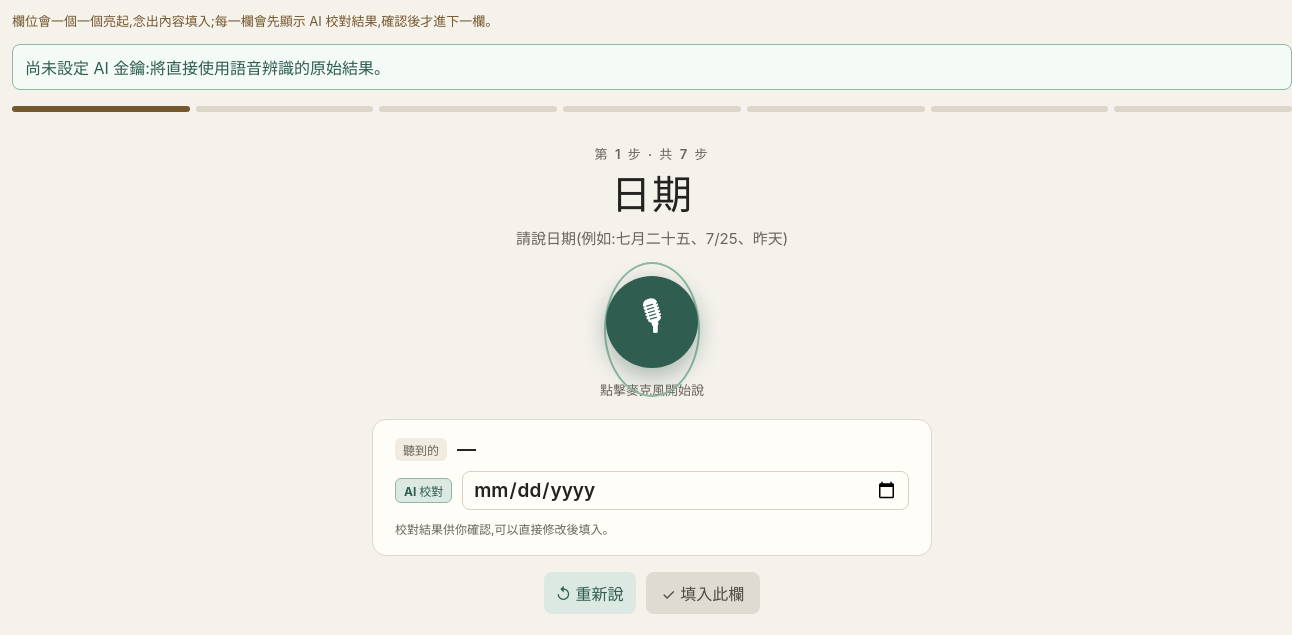
Test: ModeBPanel › resolves an offline spoken Chinese date into the date picker
The image size is (1292, 635).
Click the button named "用說的" at (652, 322), box [606,276,698,368]
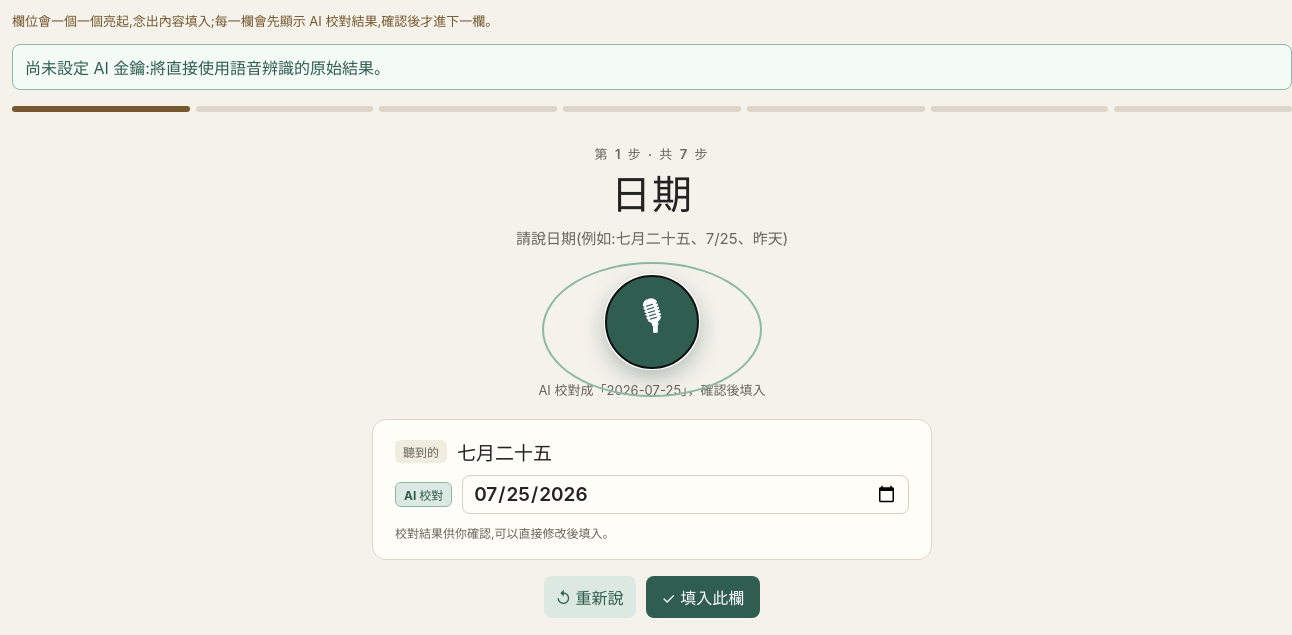
expect the date field named "日期" holds "2026-07-25": met, box [462,475,909,514]
